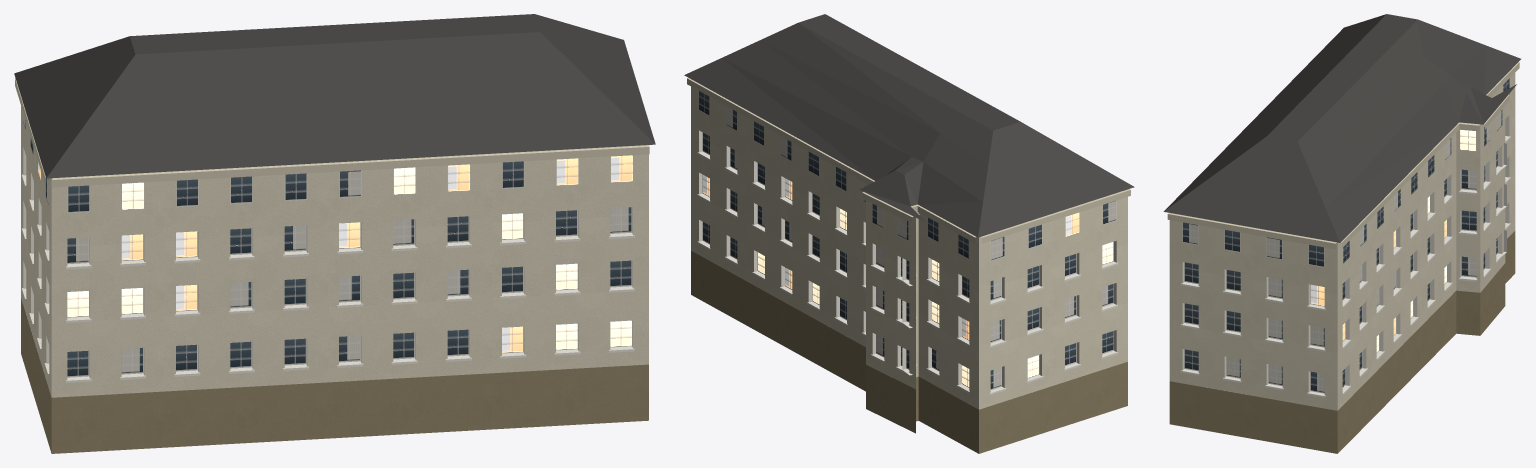
Rendered from z3b_bhof_main.glb.
3 views of the same model, side by side, from view 1: azimuth 30°, elevation 25°; view 2: azimuth 150°, elevation 25°; view 3: azimuth 270°, elevation 25° (orthographic). The views are drawn at different scales.
Parts seen in each view (by area): view 1: z3b_bhof_main; view 2: z3b_bhof_main; view 3: z3b_bhof_main.
Part boxes in pixels (left/top/right/bottom): z3b_bhof_main: left=14, top=14, right=655, bottom=453; z3b_bhof_main: left=684, top=14, right=1134, bottom=453; z3b_bhof_main: left=1163, top=14, right=1520, bottom=453.
Size of the model in its own units: 32.15 by 18.86 by 22.59.
Materials: 3 (3 with a texture image).
